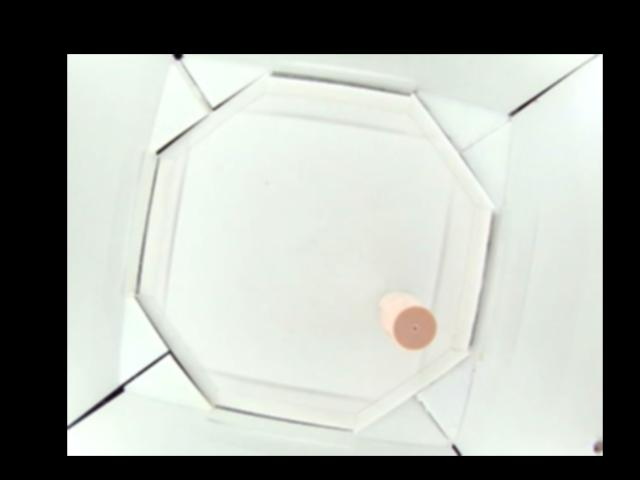Bottle: (378, 291, 437, 352)
